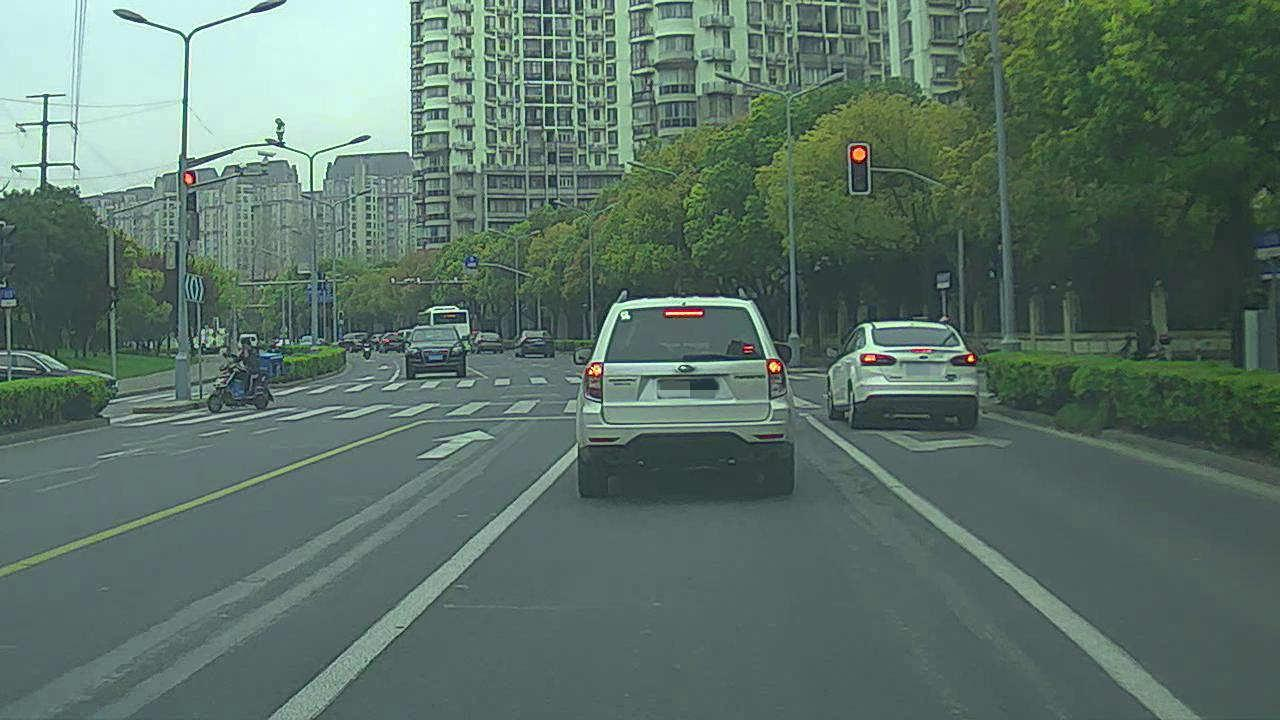traffic_light: (847, 146, 873, 196)
